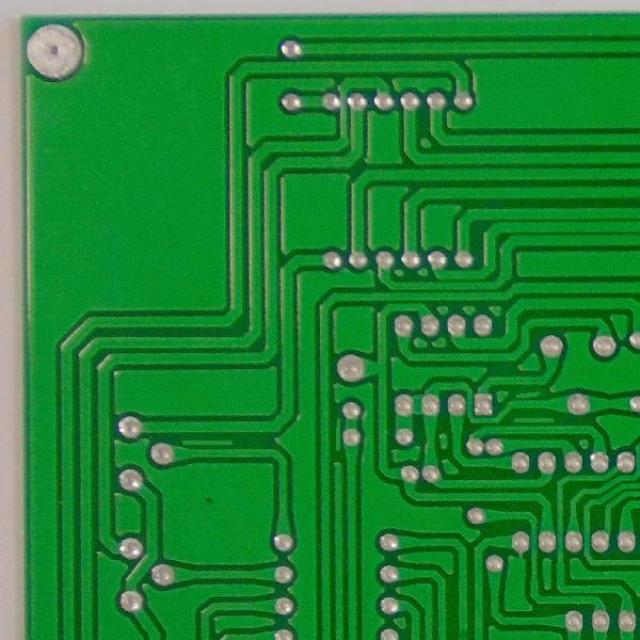spurious_copper: (176, 433, 237, 451), (330, 413, 348, 453), (511, 414, 556, 428), (513, 388, 543, 402)
